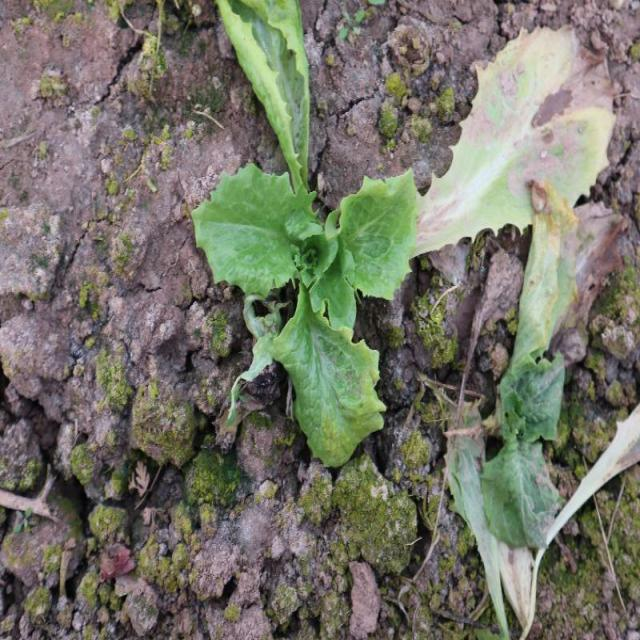crop: (189, 0, 419, 468)
